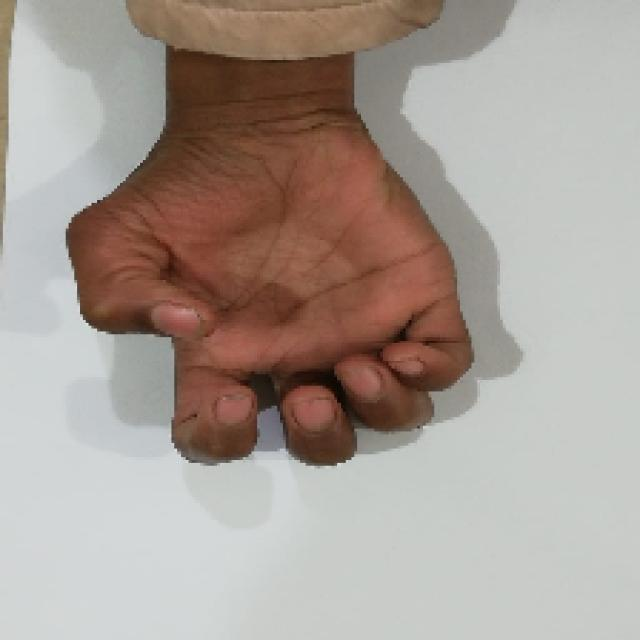Nail: (151, 302, 201, 339), (341, 362, 381, 401), (293, 398, 335, 432), (214, 395, 251, 423), (388, 359, 424, 378)
